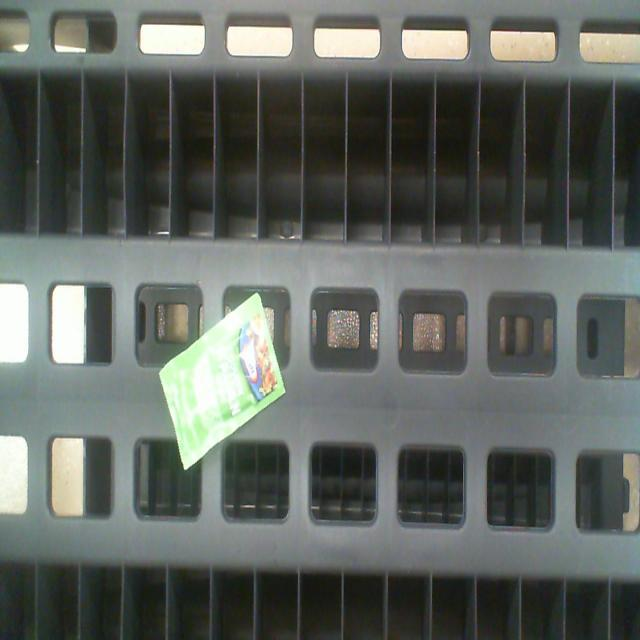snack: (161, 294, 284, 468)
